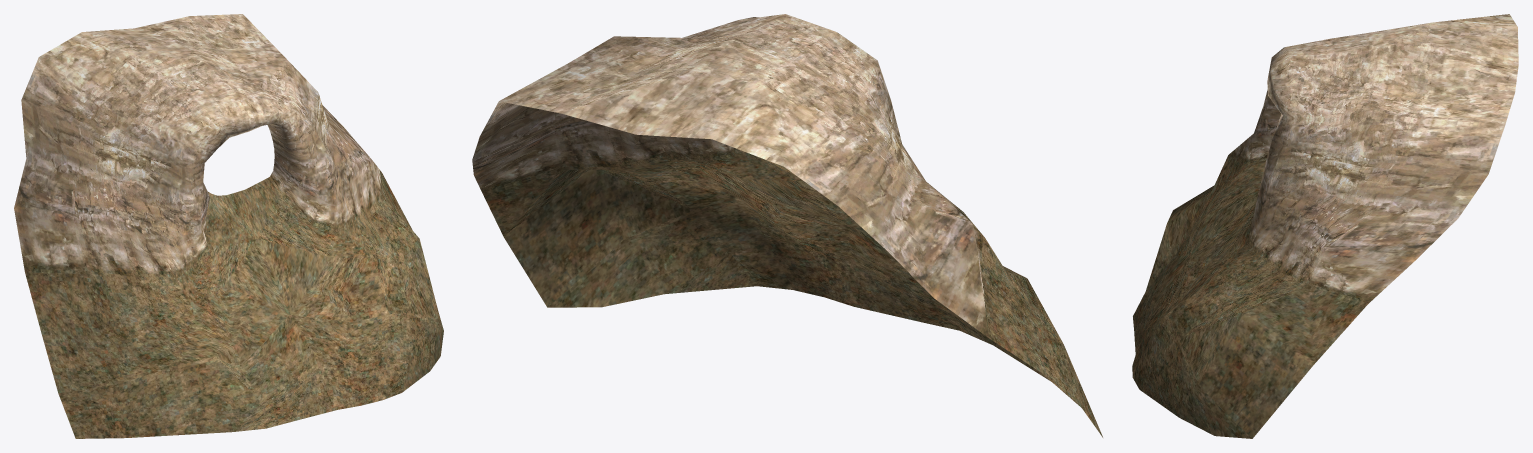
File: thm_all_cave_s02_r0_mesh_l2.fbx
The picture shows the model from 3 angles, left to right: view 1: azimuth 30°, elevation 25°; view 2: azimuth 150°, elevation 25°; view 3: azimuth 270°, elevation 25°; orthographic projection. The views are drawn at different scales.
Visible parts, largest first — view 1: mesh_node; view 2: mesh_node; view 3: mesh_node.
Boxes of the visible parts, x1=… form: mesh_node: x1=14, y1=14, x2=443, y2=438; mesh_node: x1=472, y1=14, x2=1102, y2=437; mesh_node: x1=1132, y1=14, x2=1518, y2=438.
Bounding box in the file's own units: 48.32 × 34.16 × 39.34.
